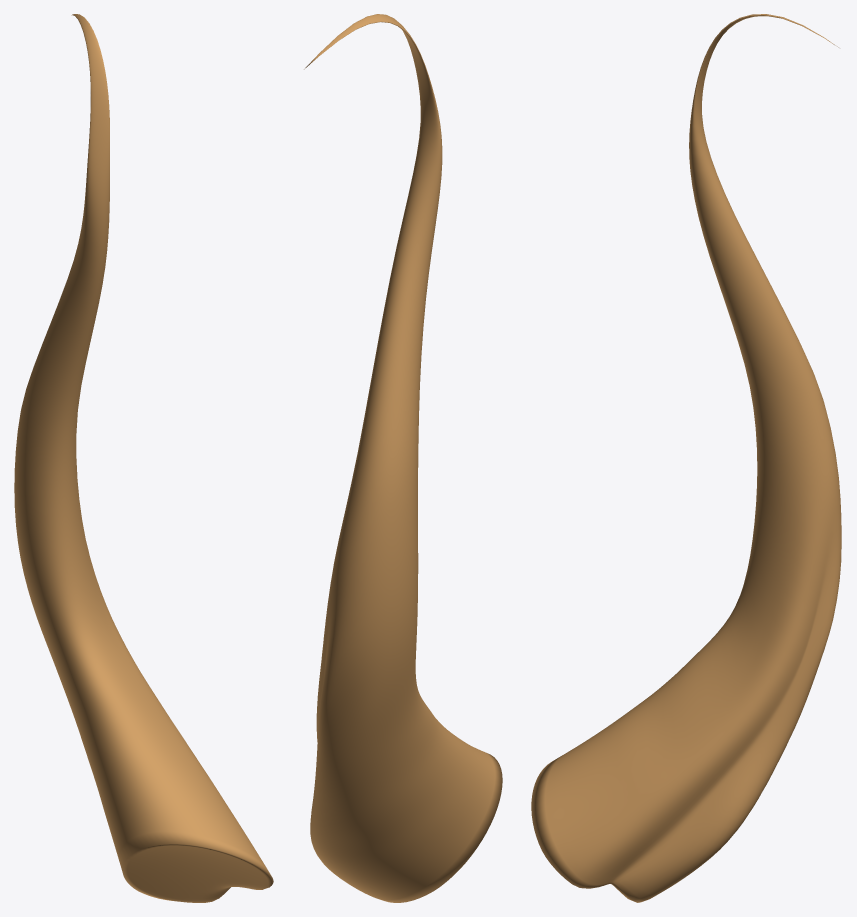
Rendered from horn_interactable.fbx.
3 renders of one model, left to right at view 1: azimuth 30°, elevation 25°; view 2: azimuth 150°, elevation 25°; view 3: azimuth 270°, elevation 25°, orthographic. The views are drawn at different scales.
Parts seen in each view (by area): view 1: horn_interactable; view 2: horn_interactable; view 3: horn_interactable.
Part boxes in pixels (<box>): horn_interactable: <box>14,14,273,902</box>; horn_interactable: <box>304,14,502,902</box>; horn_interactable: <box>531,14,841,902</box>.
Size of the model in its own units: 19.32 by 112 by 36.78.
